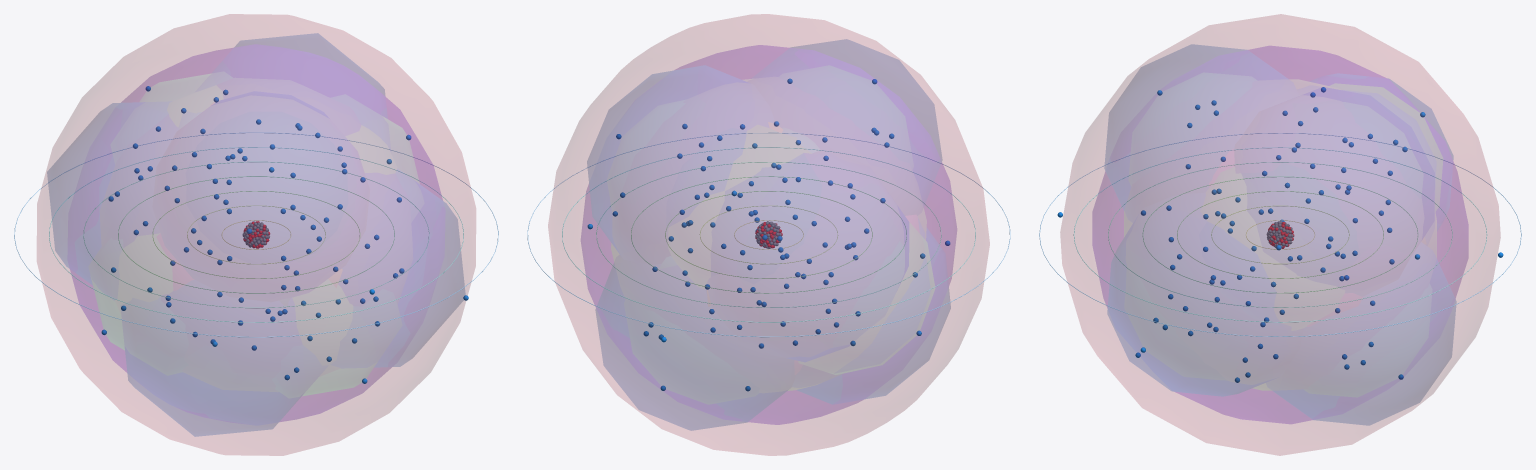
3 views of the same model, side by side, from view 1: azimuth 30°, elevation 25°; view 2: azimuth 150°, elevation 25°; view 3: azimuth 270°, elevation 25° (orthographic).
Visible parts, largest first — view 1: Orbital_7s_0, Orbital_6s_0, Orbital_7p_0, Orbital_7p_1, Orbital_6p_0, Orbital_6p_1, Nivel_n7, Nivel_n6, Nivel_n5, Nivel_n4; view 2: Orbital_7s_0, Orbital_6s_0, Orbital_7p_2, Orbital_7p_1, Nivel_n7, Nivel_n6, Nivel_n5, Nivel_n4, Orbital_7p_0; view 3: Orbital_7s_0, Orbital_6s_0, Orbital_7p_2, Orbital_7p_0, Orbital_7p_1, Nivel_n7, Orbital_6p_0, Nivel_n6, Nivel_n5, Nivel_n4, Nivel_n3.
Part boxes in pixels (x1=…): Orbital_7s_0: x1=37, y1=14, x2=475, y2=455; Orbital_6s_0: x1=68, y1=44, x2=444, y2=423; Orbital_7p_0: x1=47, y1=102, x2=465, y2=366; Orbital_7p_1: x1=125, y1=33, x2=387, y2=436; Orbital_6p_0: x1=140, y1=74, x2=374, y2=395; Orbital_6p_1: x1=92, y1=118, x2=418, y2=349; Nivel_n7: x1=14, y1=132, x2=498, y2=337; Nivel_n6: x1=49, y1=147, x2=463, y2=322; Nivel_n5: x1=83, y1=161, x2=429, y2=308; Nivel_n4: x1=118, y1=176, x2=394, y2=293; Orbital_7s_0: x1=548, y1=14, x2=989, y2=455; Orbital_6s_0: x1=581, y1=45, x2=956, y2=424; Orbital_7p_2: x1=595, y1=39, x2=942, y2=430; Orbital_7p_1: x1=587, y1=65, x2=950, y2=403; Nivel_n7: x1=527, y1=132, x2=1010, y2=337; Nivel_n6: x1=562, y1=147, x2=975, y2=322; Nivel_n5: x1=596, y1=162, x2=941, y2=307; Nivel_n4: x1=631, y1=176, x2=906, y2=293; Orbital_7p_0: x1=789, y1=207, x2=908, y2=361; Orbital_7s_0: x1=1060, y1=14, x2=1500, y2=455; Orbital_6s_0: x1=1092, y1=46, x2=1468, y2=423; Orbital_7p_2: x1=1104, y1=44, x2=1456, y2=425; Orbital_7p_0: x1=1107, y1=74, x2=1453, y2=395; Orbital_7p_1: x1=1304, y1=87, x2=1434, y2=238; Nivel_n7: x1=1039, y1=133, x2=1521, y2=336; Orbital_6p_0: x1=1331, y1=84, x2=1442, y2=210; Nivel_n6: x1=1073, y1=147, x2=1487, y2=322; Nivel_n5: x1=1108, y1=162, x2=1452, y2=307; Nivel_n4: x1=1142, y1=176, x2=1418, y2=293; Nivel_n3: x1=1177, y1=191, x2=1383, y2=278.
Bounding box in the file's own units: 2.1 × 1.93 × 2.1.
